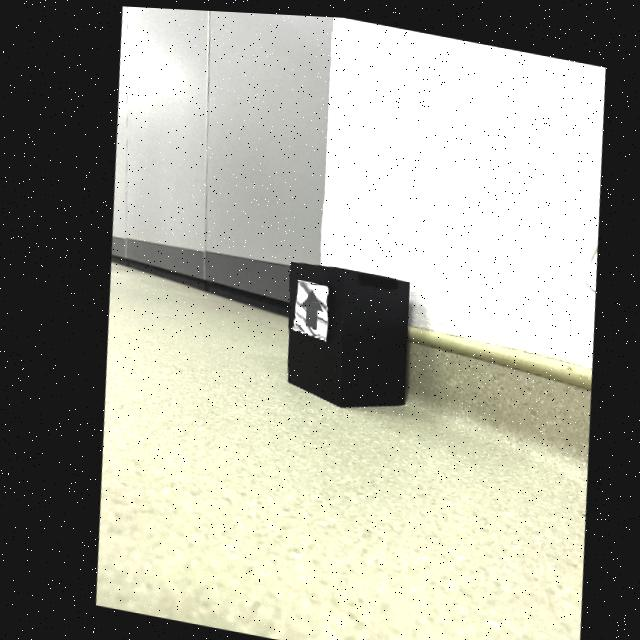UP: (295, 287, 317, 326)
